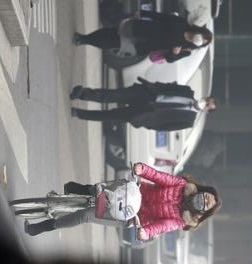person: (23, 163, 222, 241), (72, 76, 219, 133), (72, 10, 212, 67)
